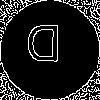D: (25, 25, 62, 71)
